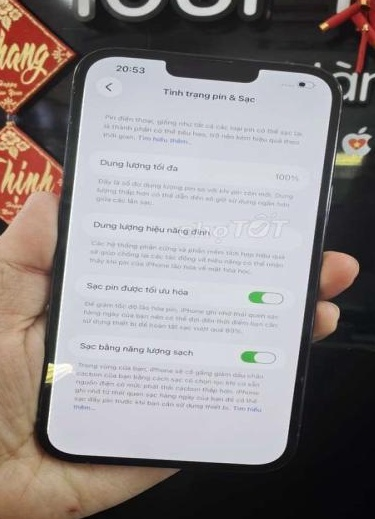scratch: (62, 69, 89, 165)
